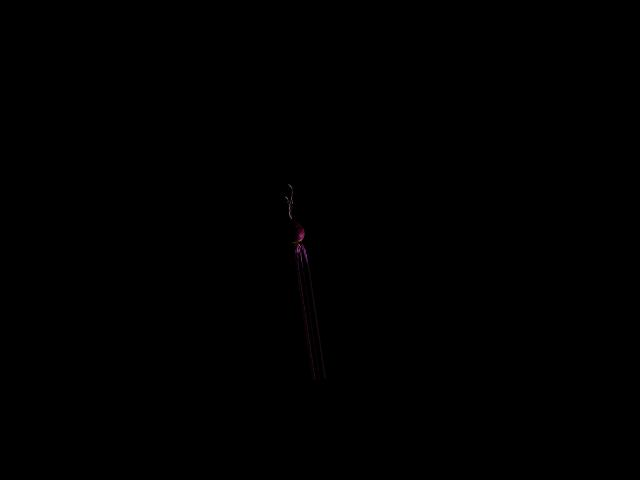beet: (275, 182, 311, 270)
